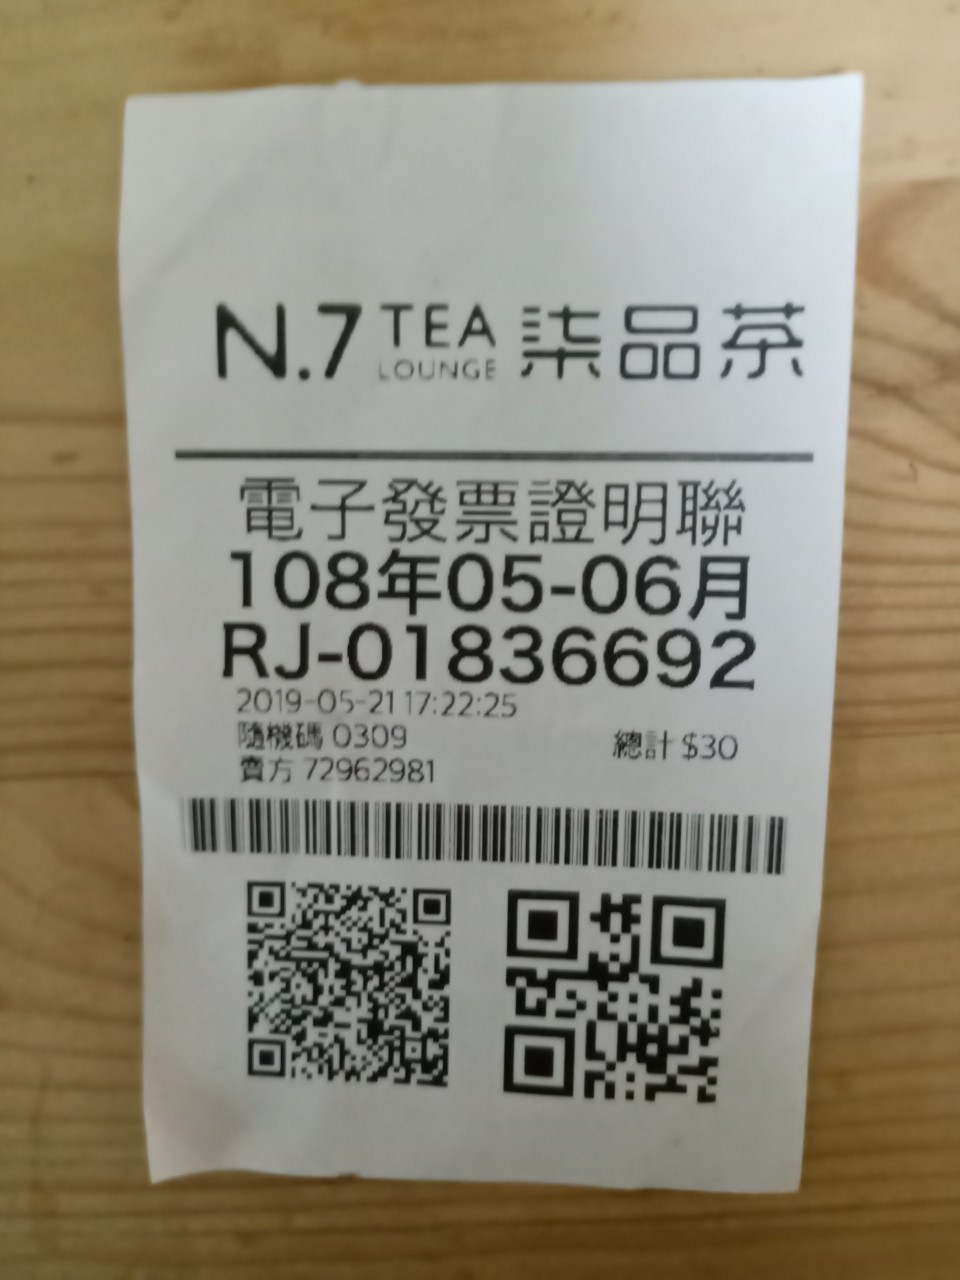Date_New: (224, 547, 753, 623)
Number_New: (346, 618, 759, 694)
